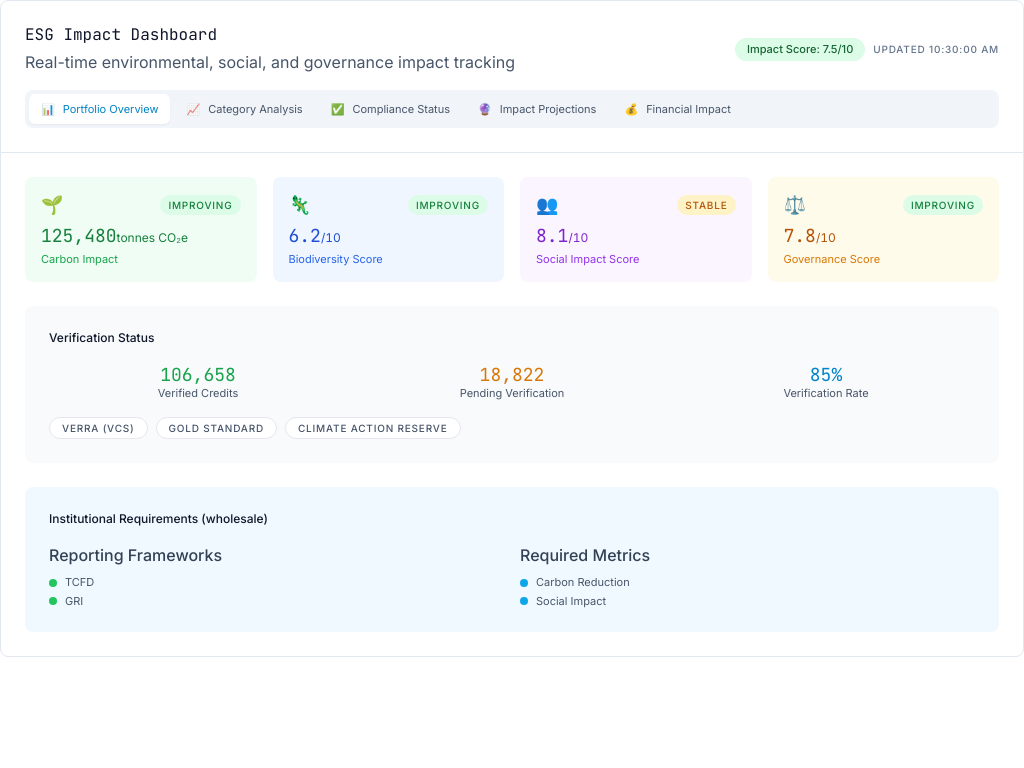
Scenario: ESGImpactDashboard Component › Categories View › displays category selector grid
Expected: the heading "ESG Impact Dashboard" is shown, [25,24,217,45]
Click the text "Category Analysis" at (255, 109), box [208,102,303,116]
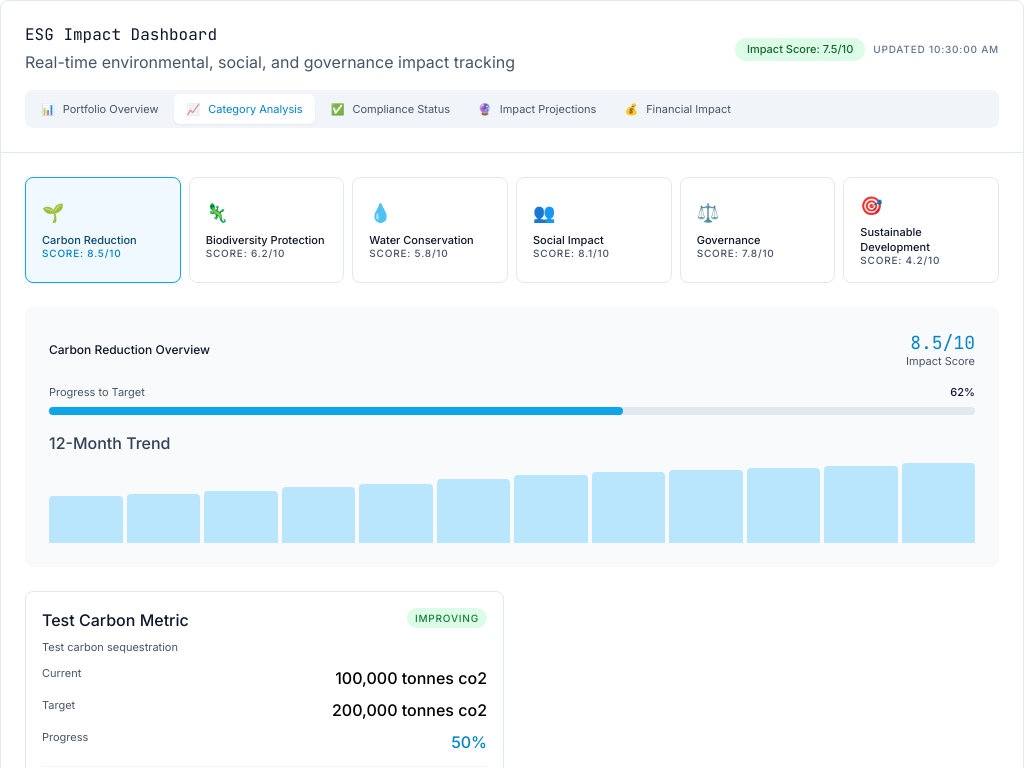
Now the text "Carbon Reduction" is shown, box [42,233,137,247]
Now the text "Biodiversity Protection" is shown, box [206,233,327,247]
Now the text "Water Conservation" is shown, box [369,233,491,247]
